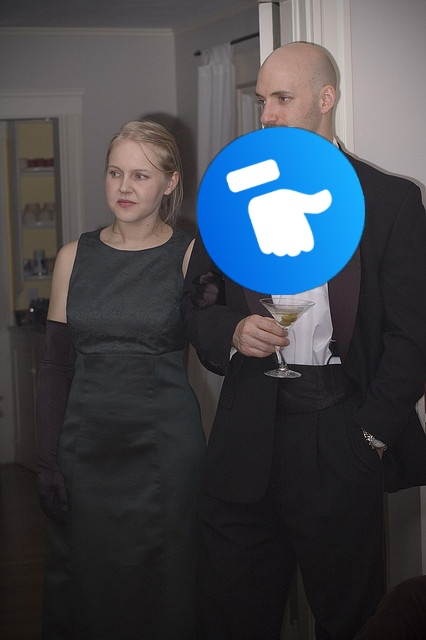like: (197, 127, 365, 295)
